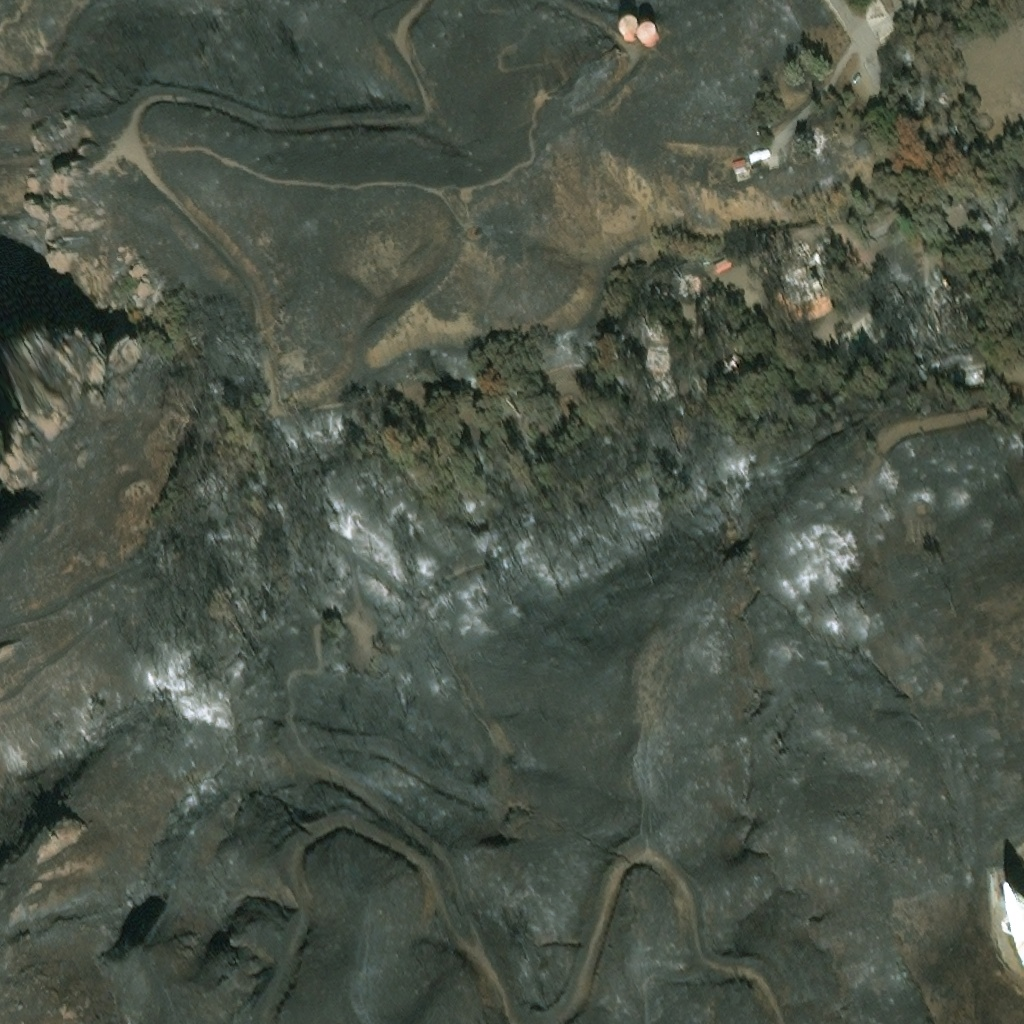0 no-damage: (746, 147, 770, 162)
1 minor-damage: (634, 19, 657, 43), (616, 11, 638, 36), (729, 156, 745, 167), (733, 164, 746, 173)
3 destroyed: (826, 293, 888, 348), (861, 0, 924, 47), (777, 230, 816, 270), (920, 270, 959, 310), (777, 251, 811, 294), (715, 344, 752, 380), (805, 242, 836, 279), (945, 352, 1008, 369), (642, 363, 668, 388), (673, 385, 698, 409), (552, 385, 578, 408), (680, 266, 705, 288), (643, 338, 665, 361), (794, 132, 822, 150), (806, 329, 825, 347)
